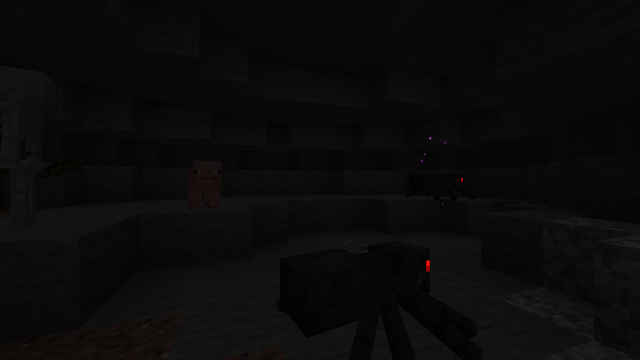araignees: (293, 229, 472, 358), (407, 170, 474, 201)
cochons: (177, 166, 223, 209)
squelettes: (1, 66, 65, 231)
